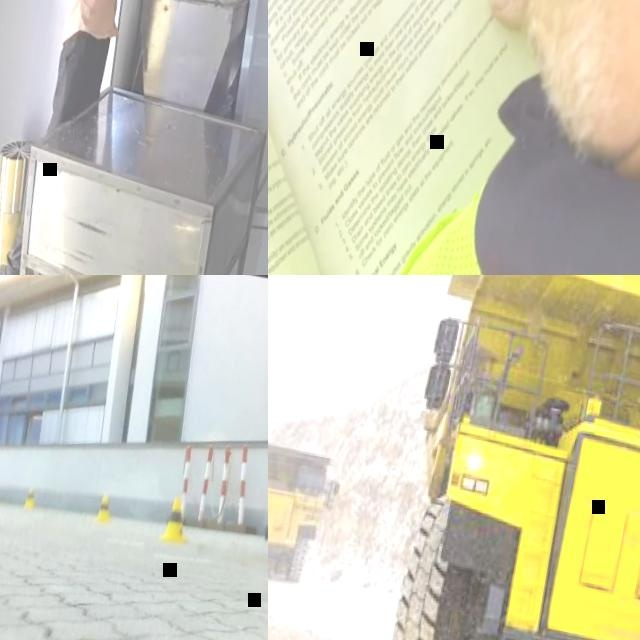NO-Mask: (454, 0, 640, 164)
NO-Safety Vest: (50, 0, 146, 45)
Person: (377, 0, 640, 275), (0, 0, 225, 275)
Safety Cone: (158, 494, 194, 543), (94, 493, 114, 521), (21, 485, 36, 509)
Safety Vest: (379, 162, 640, 275)
machinery: (364, 275, 640, 640), (268, 421, 348, 595)
